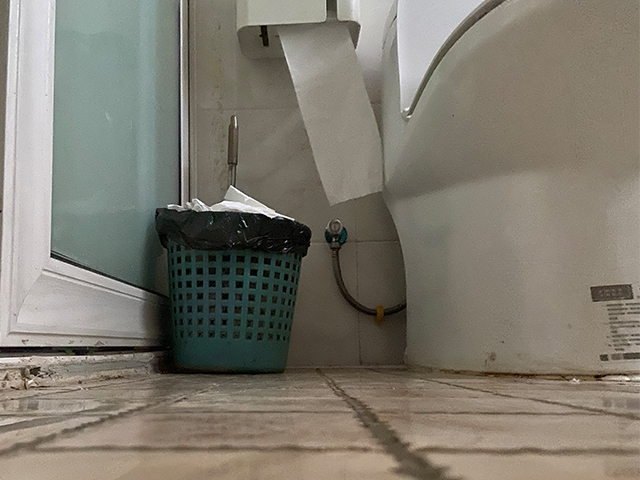closestool: (379, 1, 640, 375)
trashcan: (156, 208, 312, 375)
